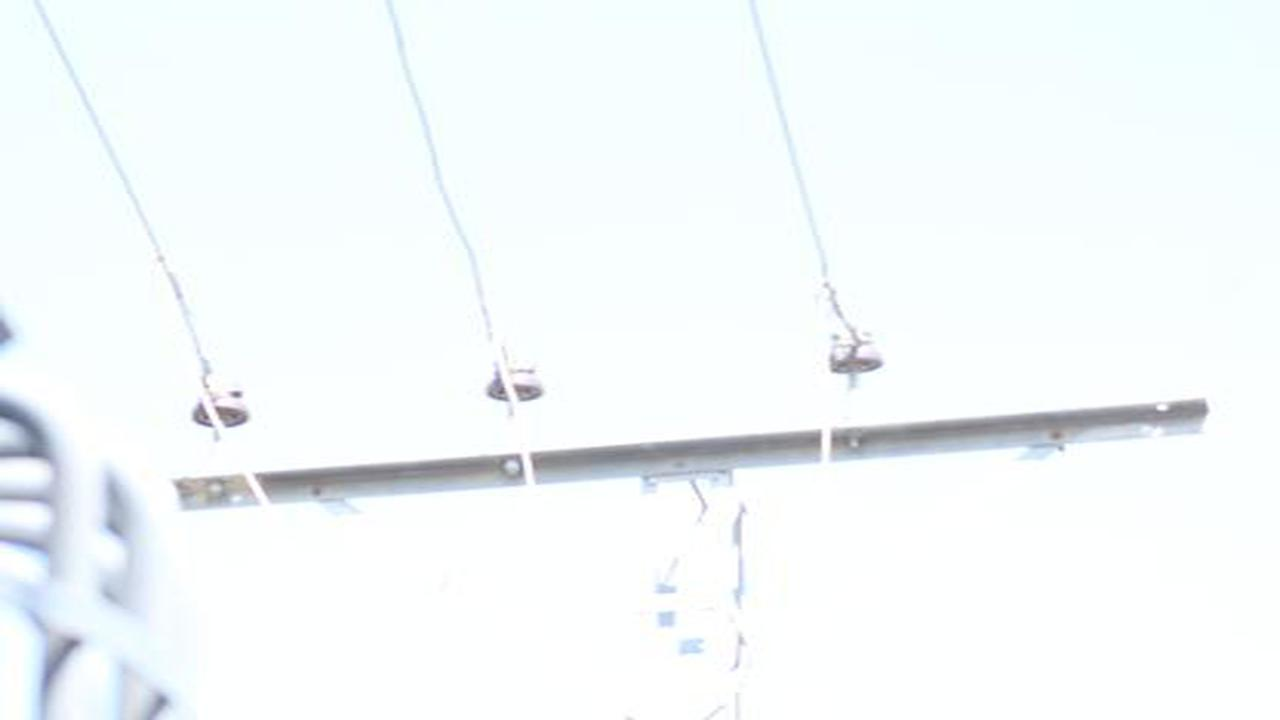insulator_pin: (189, 374, 259, 435), (819, 326, 889, 378), (484, 353, 551, 407)
